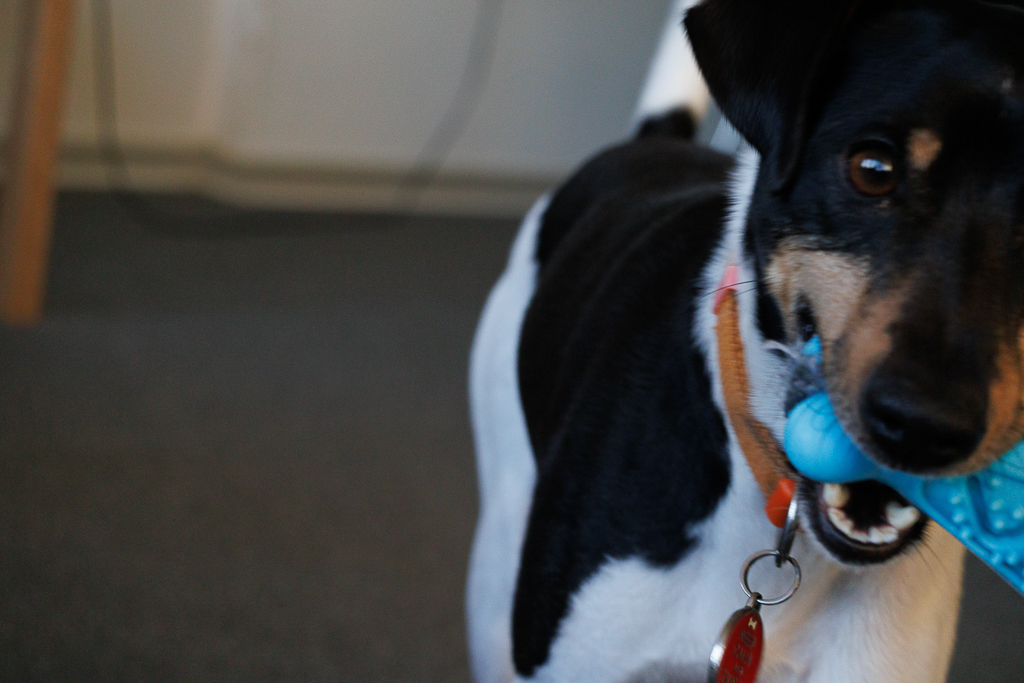Dog: (452, 0, 1023, 683)
